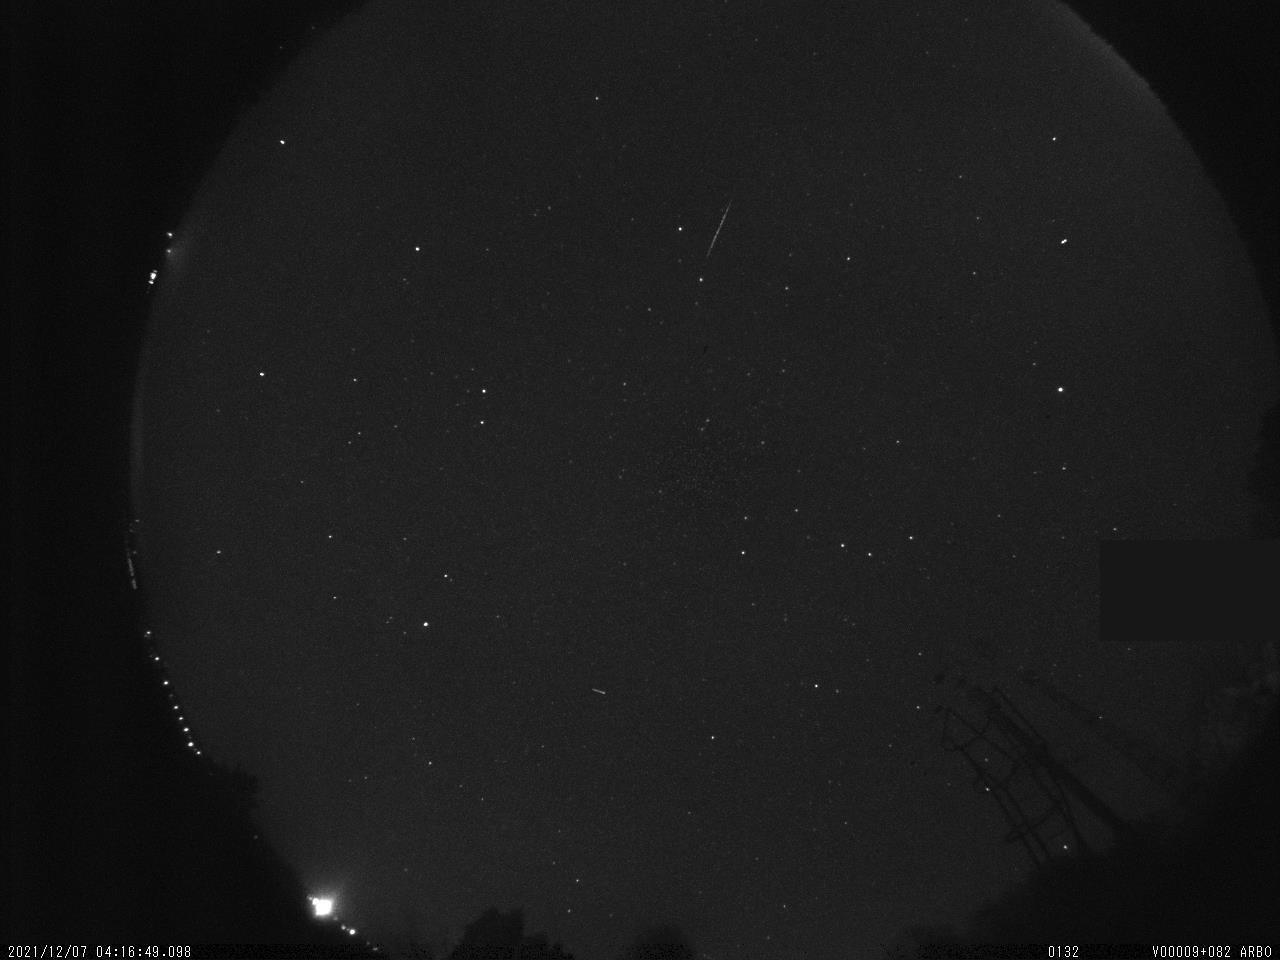meteor: (571, 674, 685, 704)
